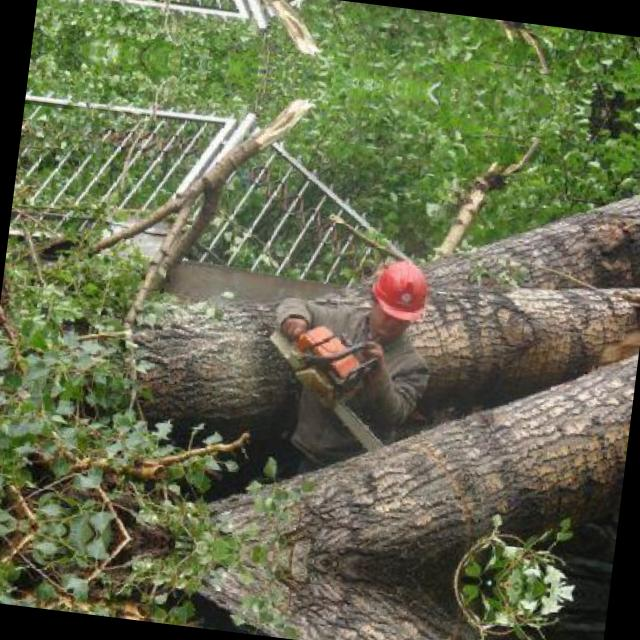helmet: (359, 250, 433, 342)
